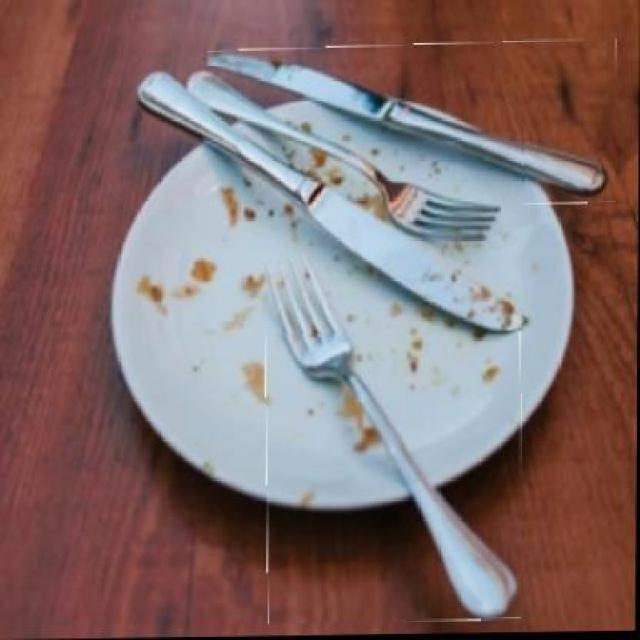Plate: (101, 99, 582, 522)
